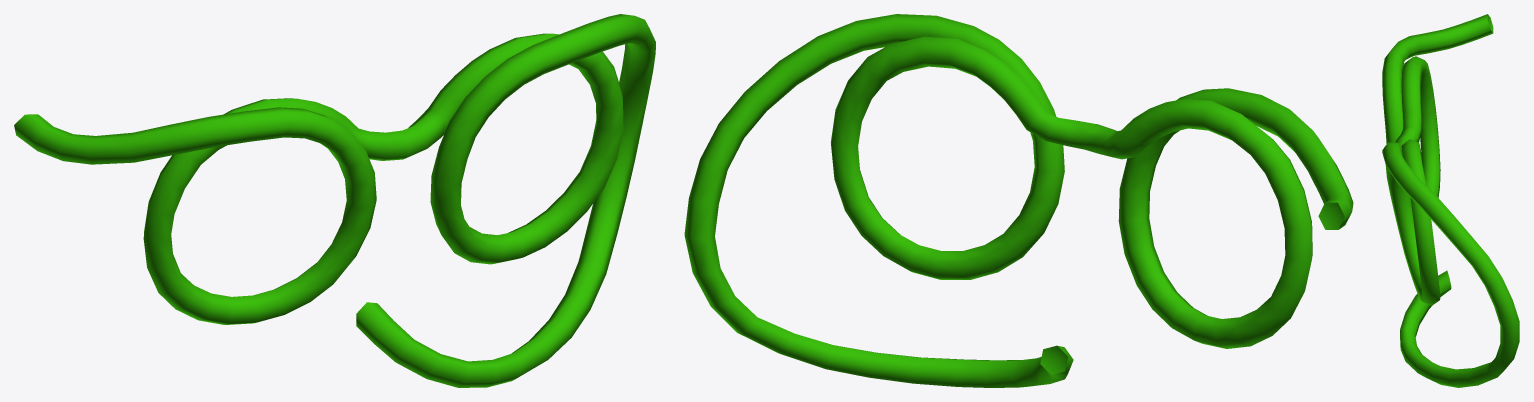
Rendered from AccessoryGlassmouthStraw0.glb.
The picture shows the model from 3 angles, left to right: view 1: azimuth 30°, elevation 25°; view 2: azimuth 150°, elevation 25°; view 3: azimuth 270°, elevation 25°; orthographic projection. The views are drawn at different scales.
Visible parts, largest first — view 1: Accessory__mAccessory; view 2: Accessory__mAccessory; view 3: Accessory__mAccessory.
Part boxes in pixels (x1=…): Accessory__mAccessory: x1=14, y1=14, x2=655, y2=387; Accessory__mAccessory: x1=684, y1=14, x2=1353, y2=387; Accessory__mAccessory: x1=1382, y1=14, x2=1519, y2=387.
Size of the model in its own units: 6.99 by 3.61 by 1.99.
1 material, 1 textured.
